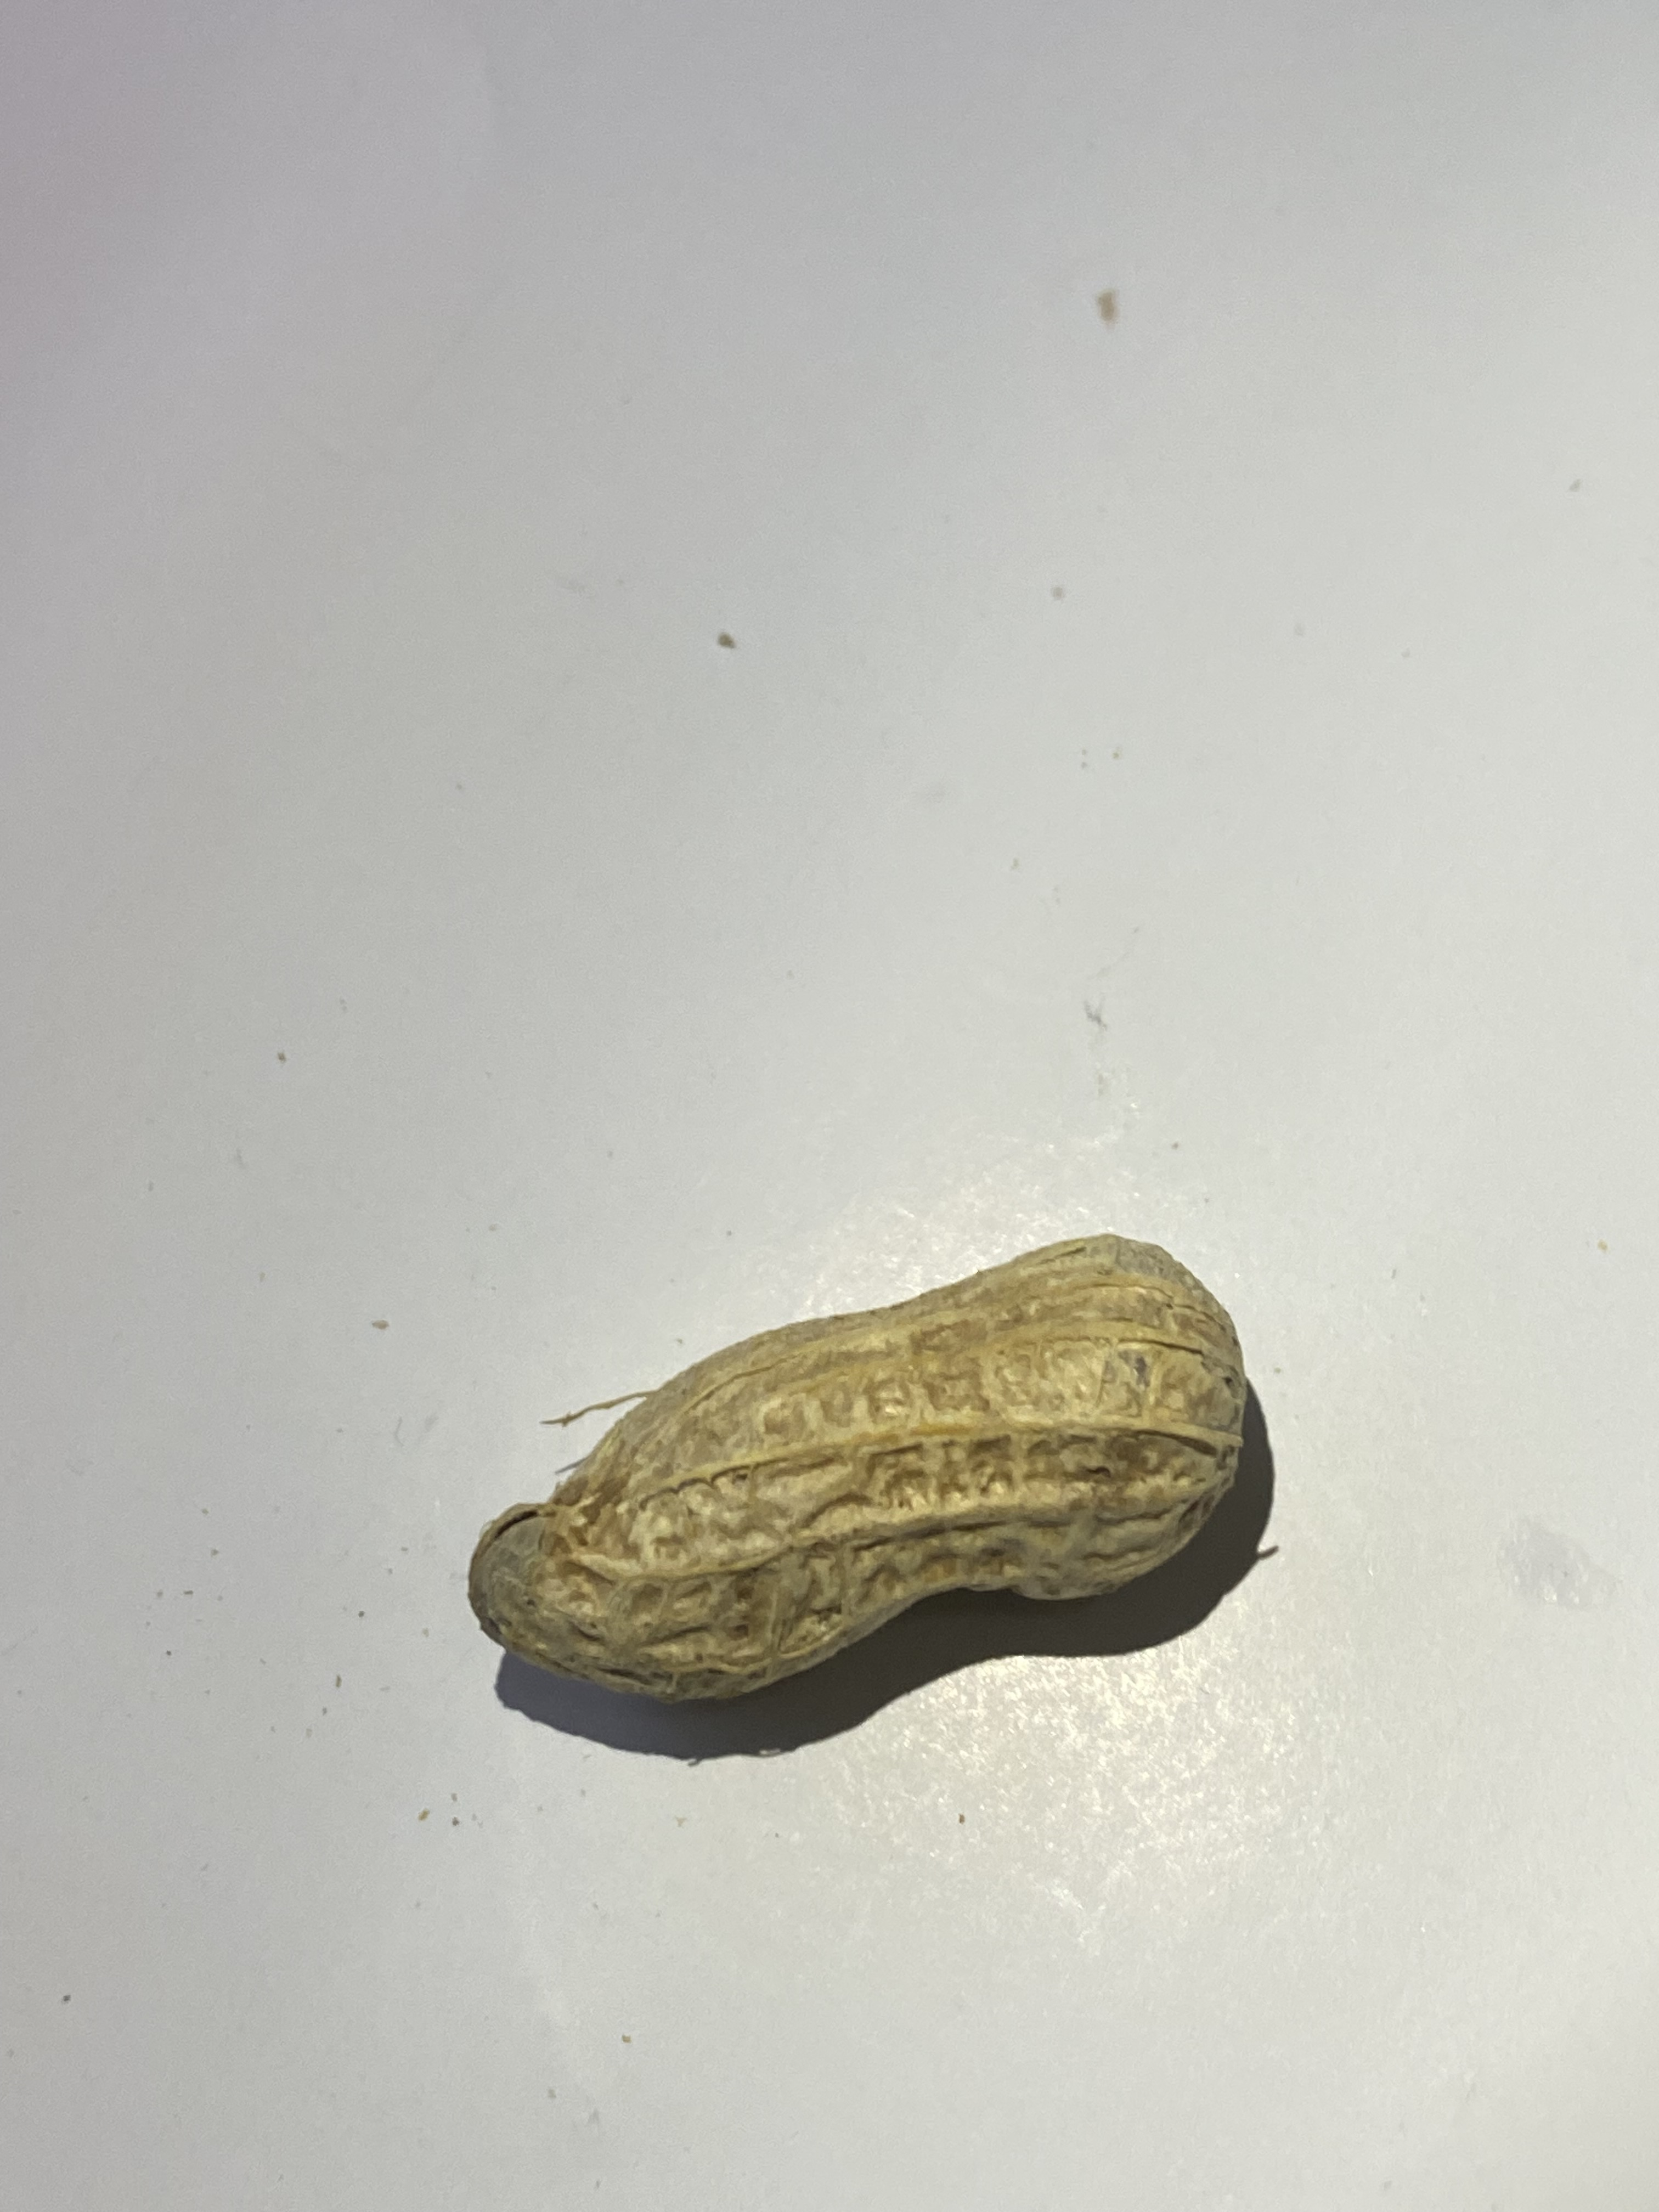kacang2: (457, 1230, 1253, 1714)
